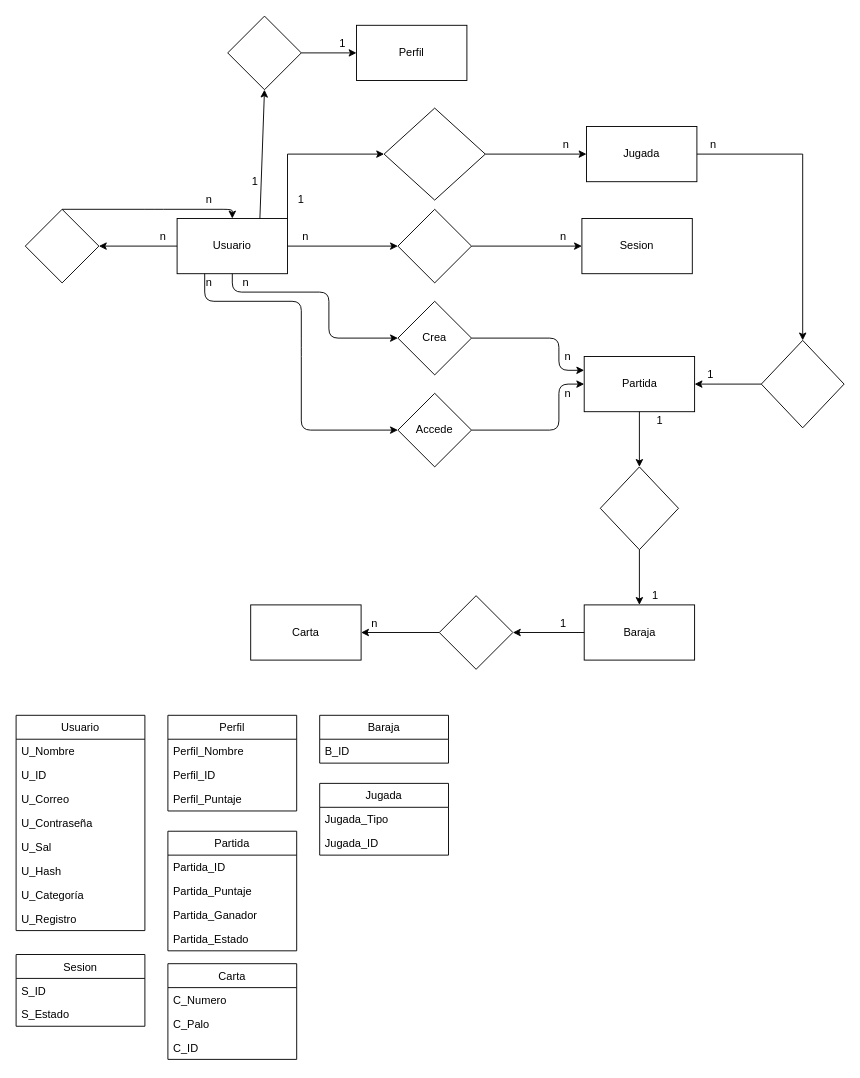
The diagram is 860 pixels wide and 1078 high, and some of its shapes have lost their labels. Here are the shapes that lost their labels. From the top down, the centre of each, then its label:
the point at 264,52: Tiene
the point at 434,153: Usuario_Jugada
the point at 61,245: Chatea
the point at 434,245: Inicia
the point at 802,383: Jugada_Partida
the point at 638,508: Partida_Baraja
the point at 475,632: Baraja_carta
